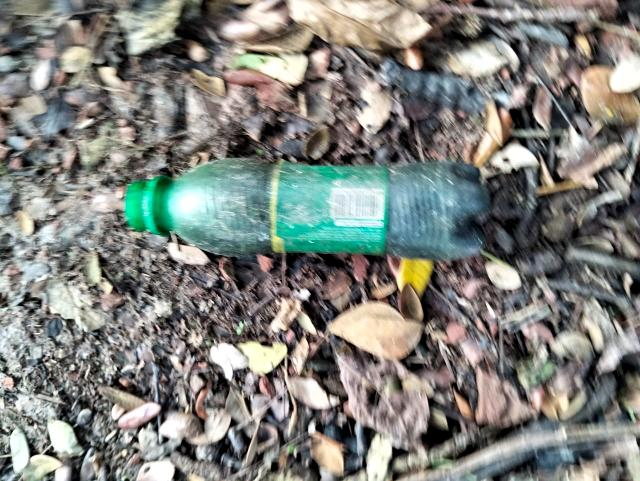bottle: (128, 146, 488, 272)
